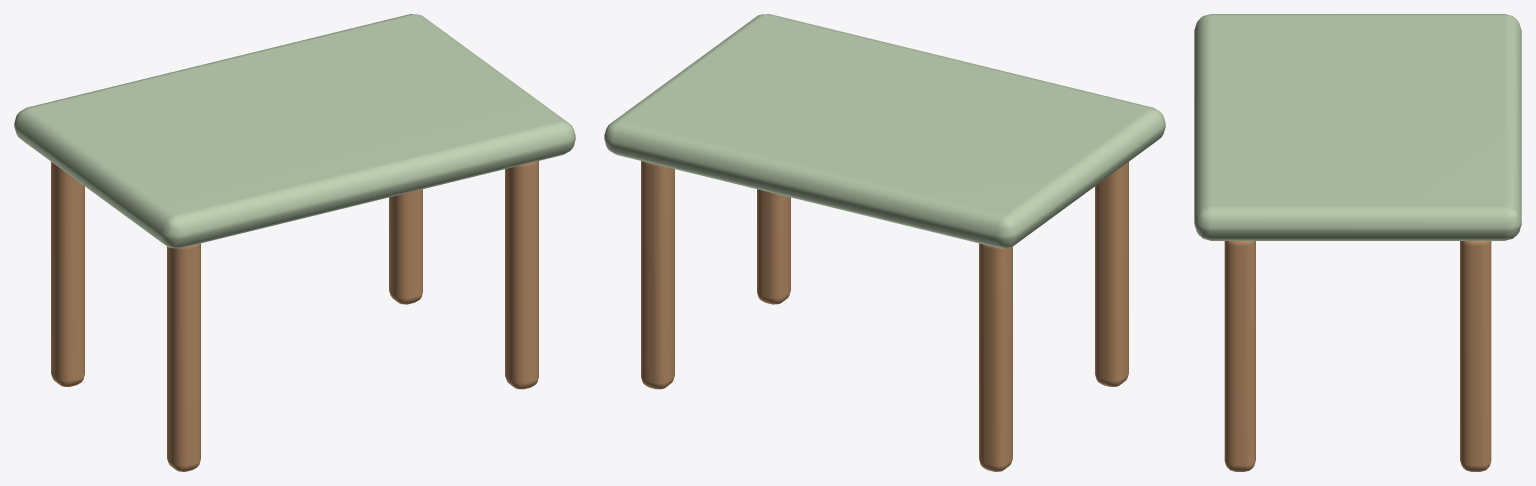
File: officeKitchenTable.glb
3 views of the same model, side by side, from view 1: azimuth 30°, elevation 25°; view 2: azimuth 150°, elevation 25°; view 3: azimuth 270°, elevation 25° (orthographic).
Visible parts, largest first — view 1: Rounded tabletop, Leg, Leg.002, Leg.001, Leg.003; view 2: Rounded tabletop, Leg.001, Leg.003, Leg, Leg.002; view 3: Rounded tabletop, Leg.002, Leg.003.
Boxes of the visible parts, box(x1,y1,x2,y2) form: Rounded tabletop: box(14, 14, 575, 248); Leg: box(167, 243, 200, 471); Leg.002: box(505, 161, 538, 389); Leg.001: box(51, 162, 84, 386); Leg.003: box(389, 189, 422, 304); Rounded tabletop: box(604, 14, 1165, 248); Leg.001: box(979, 243, 1012, 471); Leg.003: box(641, 161, 674, 389); Leg: box(1095, 162, 1128, 386); Leg.002: box(757, 189, 790, 304); Rounded tabletop: box(1194, 14, 1521, 240); Leg.002: box(1224, 241, 1255, 471); Leg.003: box(1460, 241, 1491, 471).
Bounding box in the file's own units: 1.7 × 1.06 × 1.15.
